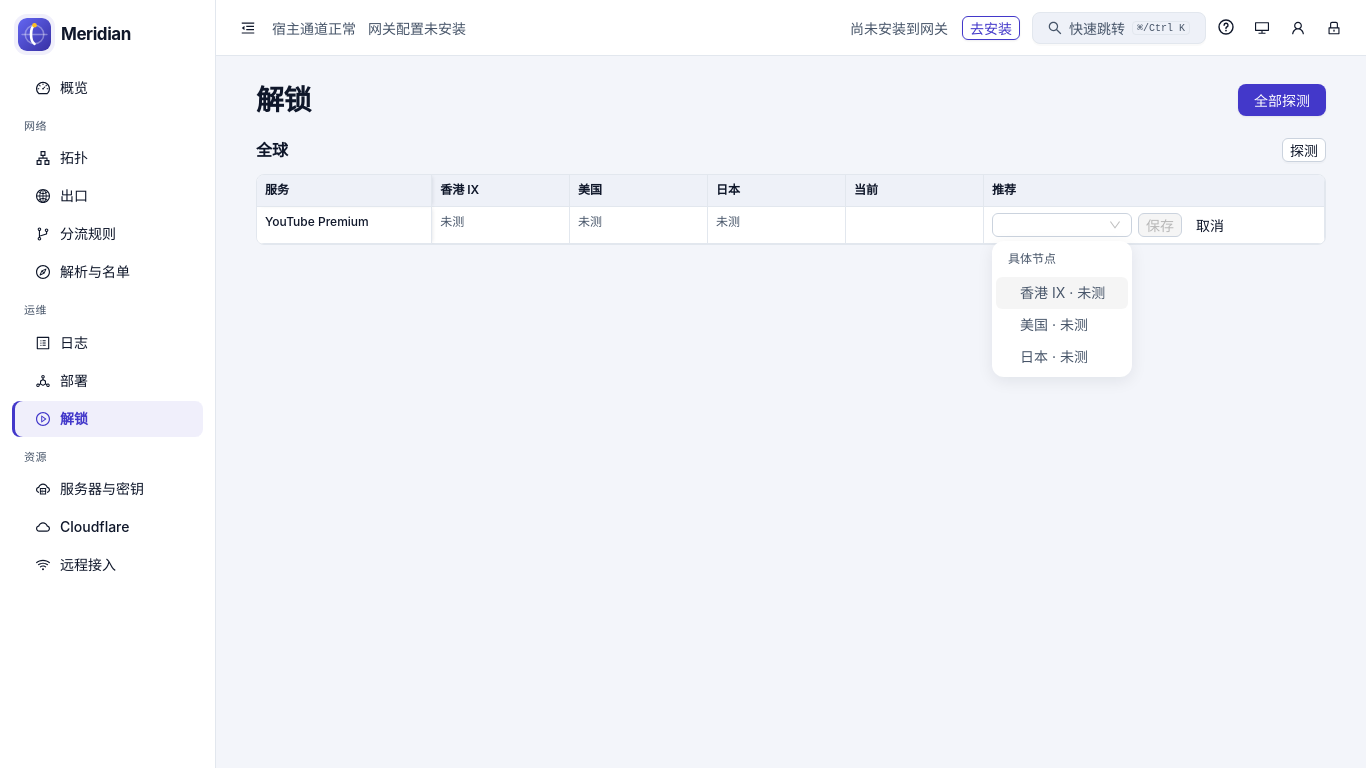
Scenario: unlock: 确认 and 手动 › a refused manual save (409) shows the error, saves nothing and reloads the table
Earlier steps of the test are not shown.
Click the option "美国 · 未测" at (1054, 324), box x1=1020 y1=316 x2=1088 y2=333
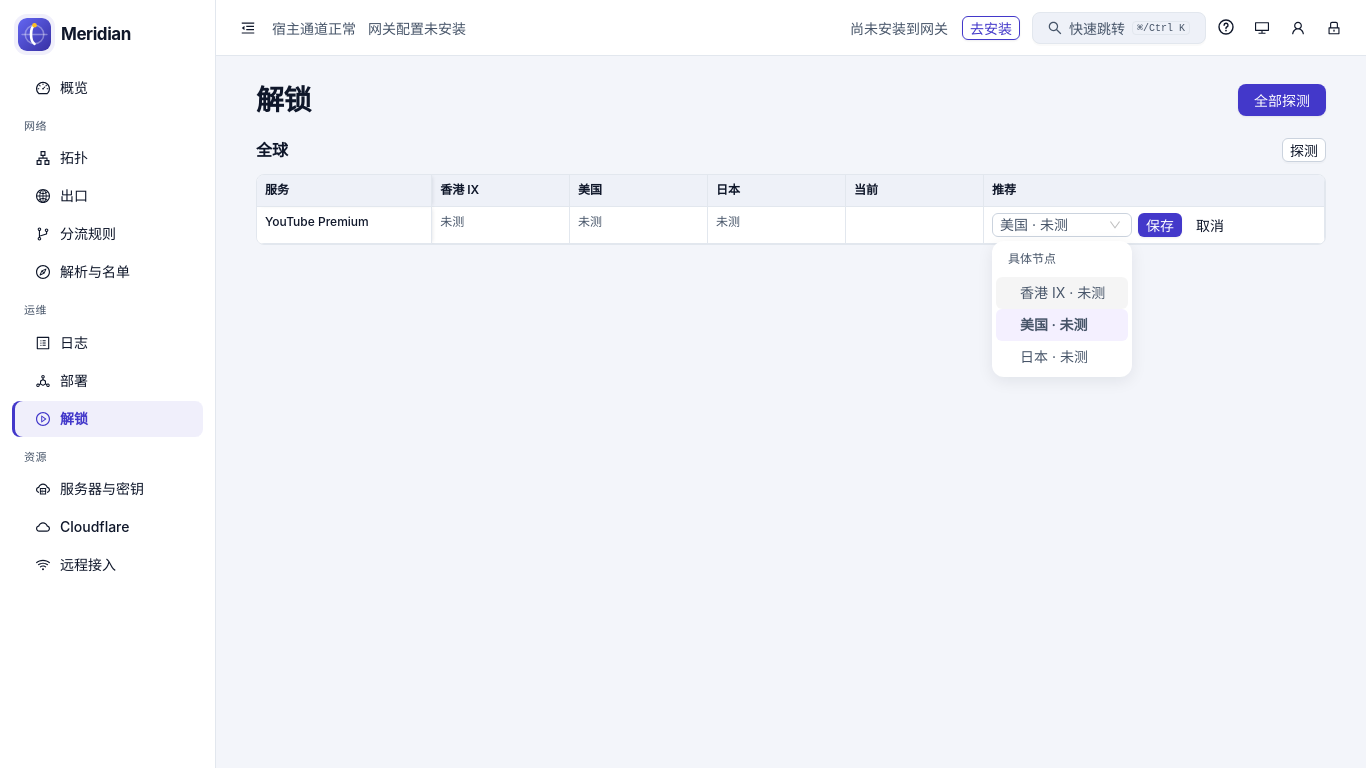
Click the button with aria-label "保存 YouTube Premium → 美国" at (1160, 225), box x1=1138 y1=213 x2=1182 y2=237
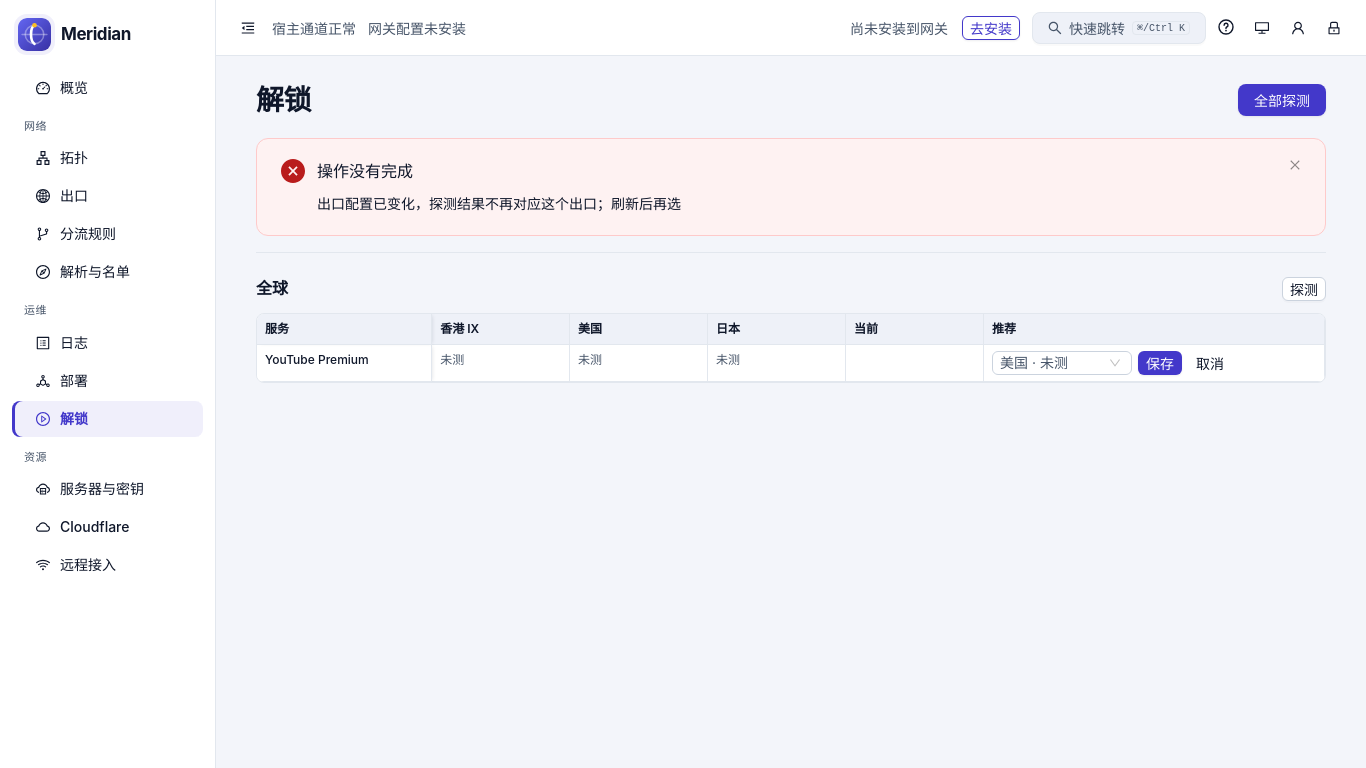
expect the text "出口配置已变化，探测结果不再对应这个出口；刷新后再选" is shown: met, box x1=317 y1=194 x2=681 y2=212
